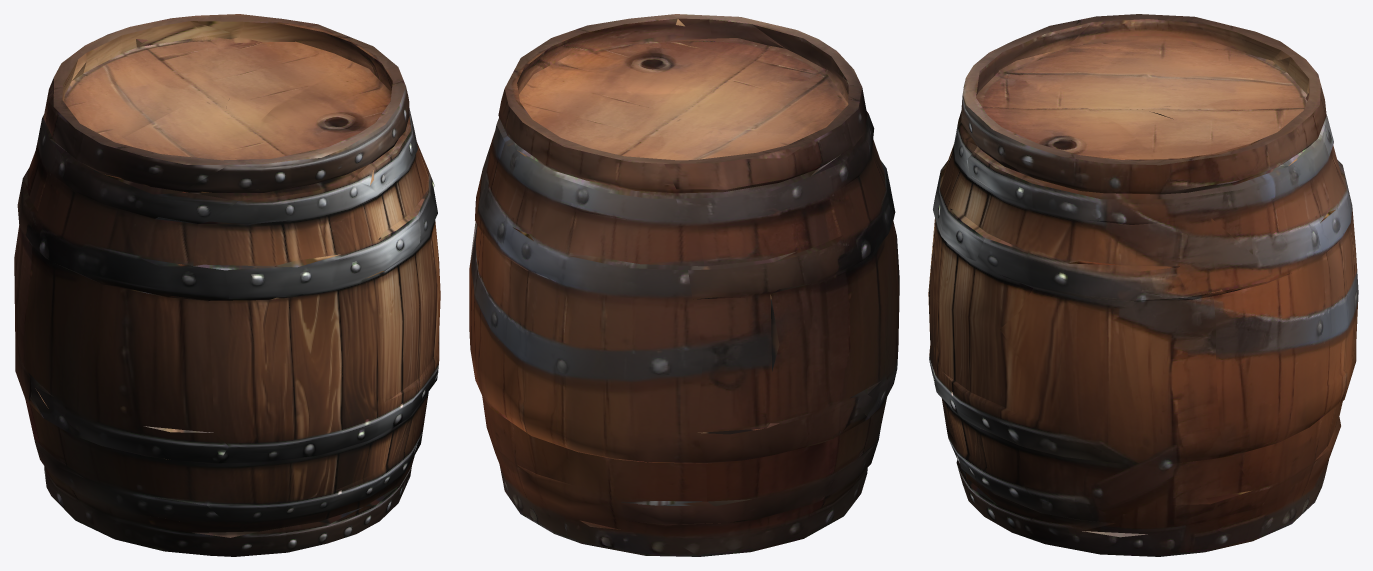
The model's file is barrel.glb.
3 views of the same model, side by side, from view 1: azimuth 30°, elevation 25°; view 2: azimuth 150°, elevation 25°; view 3: azimuth 270°, elevation 25° (orthographic).
Visible parts, largest first — view 1: Body; view 2: Body; view 3: Body.
Part boxes in pixels (bbox=[...]): Body: bbox=[14, 14, 440, 556]; Body: bbox=[469, 14, 899, 556]; Body: bbox=[928, 14, 1358, 556].
Size of the model in its own units: 0.9041 by 0.9 by 0.8947.
1 material, 1 textured.
